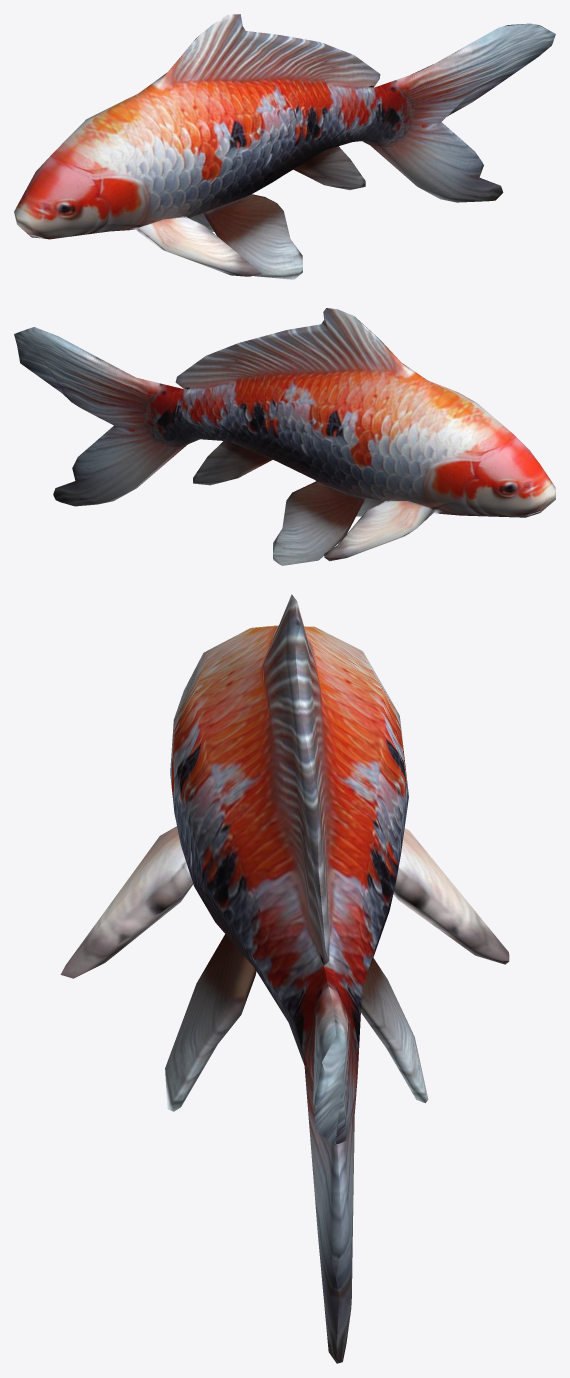
The model's file is koifish.dae.
3 views of the same model, one above another, from view 1: azimuth 30°, elevation 25°; view 2: azimuth 150°, elevation 25°; view 3: azimuth 270°, elevation 25° (orthographic). The views are drawn at different scales.
Visible parts, largest first — view 1: koifish; view 2: koifish; view 3: koifish.
Part boxes in pixels (left/top/right/bottom): koifish: left=14, top=14, right=555, bottom=279; koifish: left=14, top=308, right=555, bottom=565; koifish: left=60, top=594, right=509, bottom=1363.
Bounding box in the file's own units: 6.39 × 2.34 × 2.89.
1 material, 1 textured.
